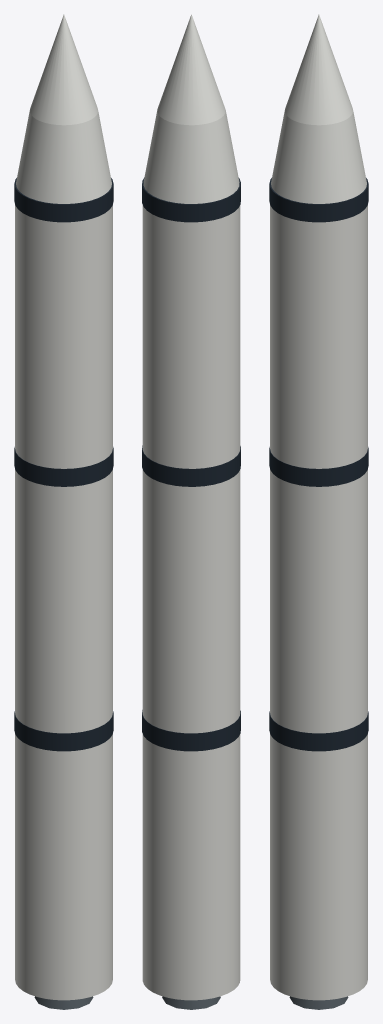
The model's file is minuteman.glb.
The picture shows the model from 3 angles, left to right: view 1: azimuth 90°, elevation 25°; view 2: azimuth 150°, elevation 25°; view 3: azimuth 270°, elevation 25°; orthographic projection.
Visible parts, largest first — view 1: body-0, body-1, body-2, fairing, nose, interstage-2, interstage-0, interstage-1, engine-0-0; view 2: body-0, body-1, body-2, fairing, nose, interstage-2, interstage-0, interstage-1, engine-0-0; view 3: body-0, body-1, body-2, fairing, nose, interstage-2, interstage-0, interstage-1, engine-0-0.
Boxes of the visible parts, x1,y1,x2,y2 form: body-0: [15, 734, 112, 1000]; body-1: [15, 469, 112, 733]; body-2: [15, 205, 112, 468]; fairing: [16, 111, 111, 203]; nose: [29, 14, 98, 125]; interstage-2: [14, 178, 113, 222]; interstage-0: [14, 711, 113, 751]; interstage-1: [14, 447, 113, 486]; engine-0-0: [34, 996, 93, 1009]; body-0: [142, 734, 240, 1000]; body-1: [142, 469, 240, 733]; body-2: [142, 205, 240, 468]; fairing: [143, 110, 239, 203]; nose: [157, 14, 225, 125]; interstage-2: [142, 177, 240, 222]; interstage-0: [142, 710, 240, 751]; interstage-1: [142, 445, 240, 486]; engine-0-0: [162, 996, 220, 1009]; body-0: [270, 734, 367, 1000]; body-1: [270, 469, 367, 733]; body-2: [270, 205, 367, 468]; fairing: [271, 111, 366, 203]; nose: [284, 14, 353, 125]; interstage-2: [269, 178, 368, 222]; interstage-0: [269, 711, 368, 751]; interstage-1: [269, 447, 368, 486]; engine-0-0: [289, 996, 348, 1009].
Size of the model in its own units: 1.69 by 18.5 by 1.69.
